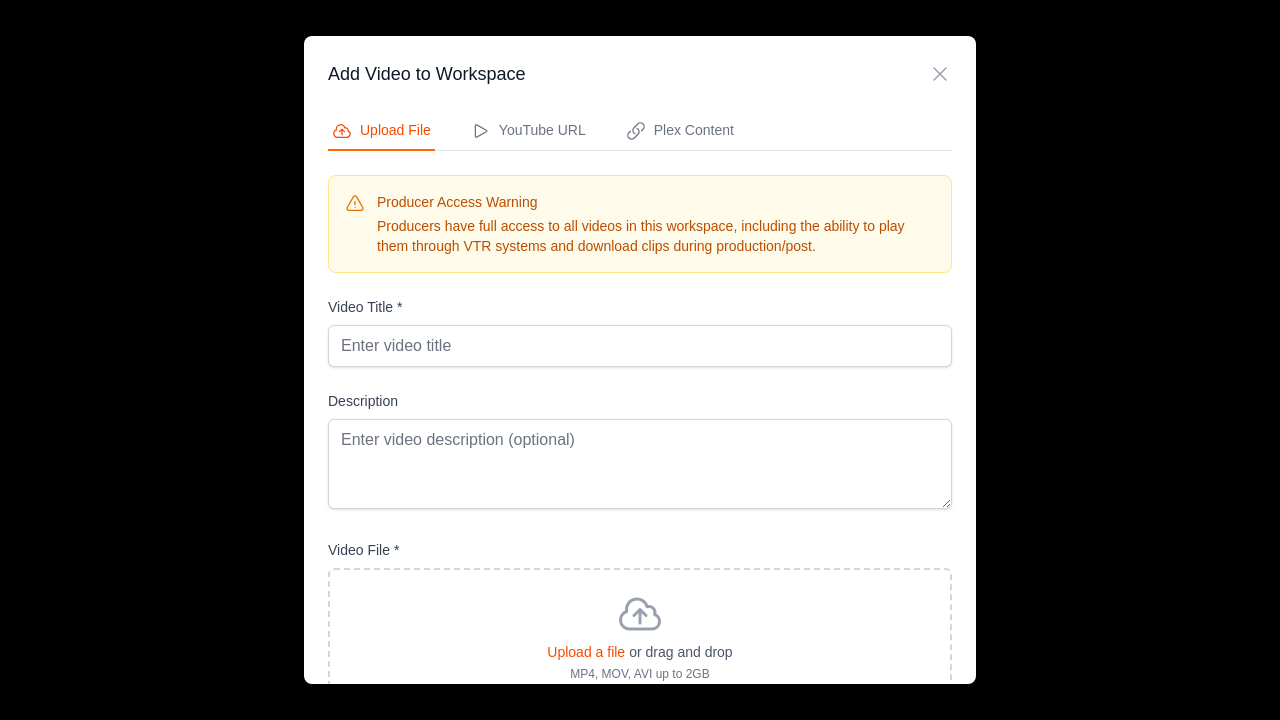
Scenario: AddVideoModal › should make title optional for YouTube videos
# Switch to YouTube tab
Click the button "YouTube URL": (528, 132) [467,112,590,151]
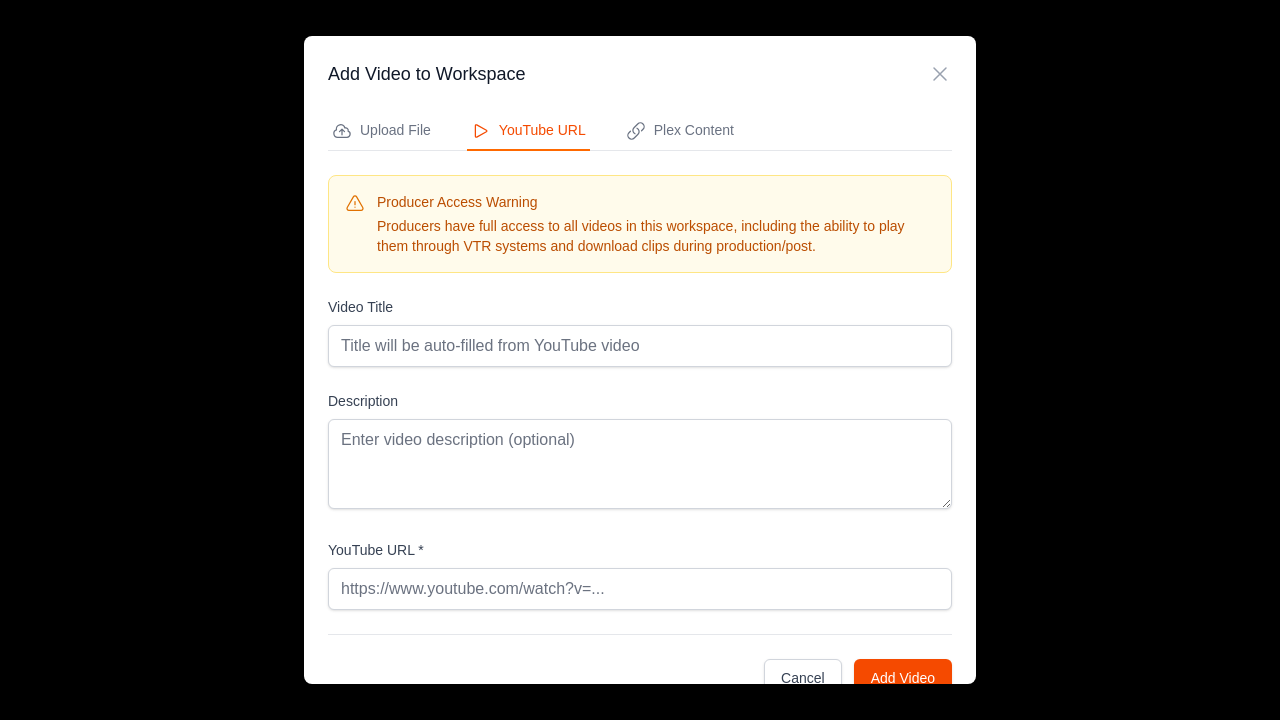
Expected: the text "Video Title" is shown, [328,299,393,315]
Expected: the text "Video Title" no longer shows "*"
